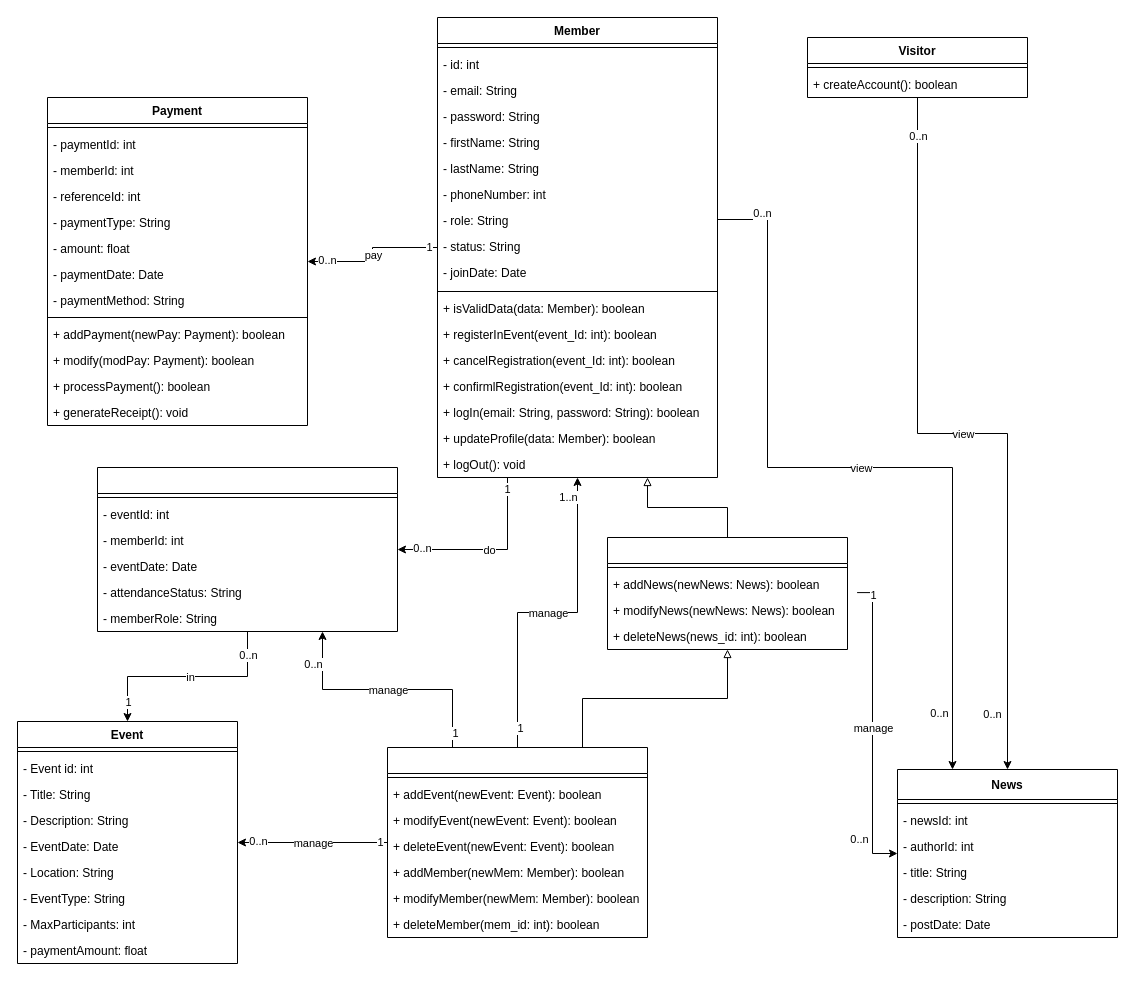
Image size: 1135x984. Some labels were removed from this diagram. Here are the shapes that lost their labels. From the top down, the box of each, then its label:
(96, 466, 398, 632): Participation
(606, 536, 848, 650): Moderator
(386, 746, 648, 938): Admin
